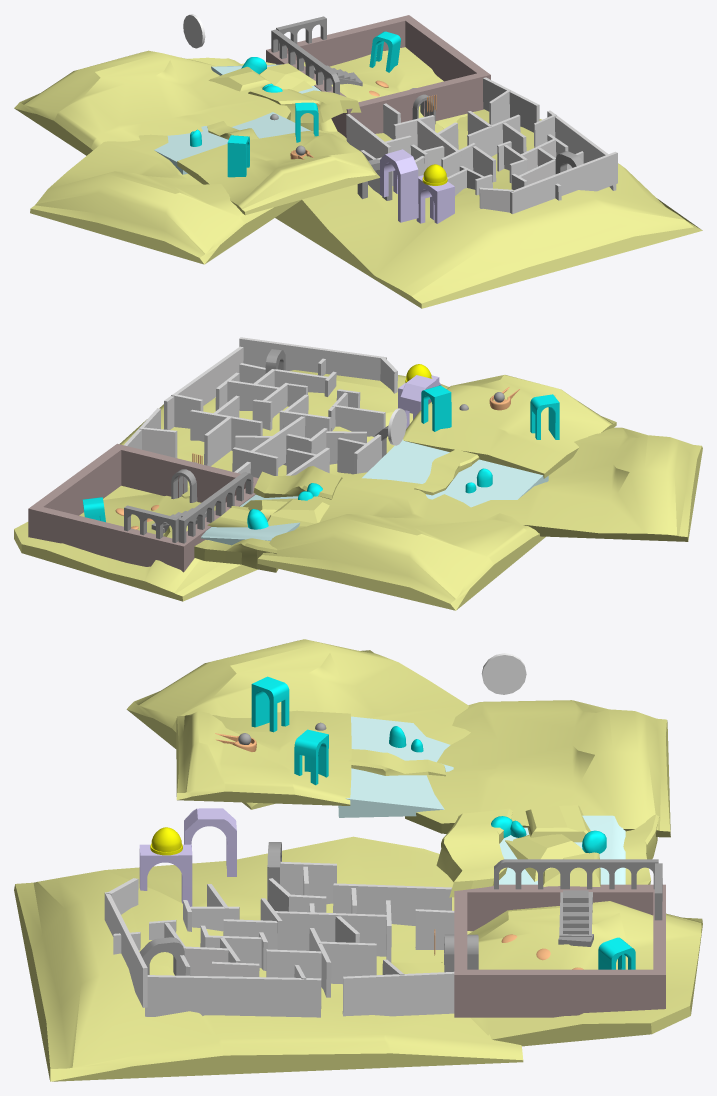
File: LevelLayout1.fbx
3 renders of one model, top to bottom at view 1: azimuth 30°, elevation 25°; view 2: azimuth 150°, elevation 25°; view 3: azimuth 270°, elevation 25°, orthographic. The views are drawn at different scales.
Parts seen in each view (by area): view 1: pCube23, pCube73, pCube20, pCube18, Wall, pCube24, pCube5, Pound1, pasted__polySurface26, pPlane4, pasted__polySurface23, pCube33 (+19 smaller); view 2: pCube20, pCube73, Wall, pCube18, pCube24, Pound1, pCube23, pCube5, pCube28, pPlane4, pPlane5, Pond2 (+30 smaller); view 3: pCube23, pCube20, pCube73, pCube24, Wall, pCube18, pCube28, Pound1, pCube33, pPlane4, pCube34, pCube35 (+28 smaller).
Part boxes in pixels (x1=…): pCube23: x1=275, y1=109, x2=702, y2=308; pCube73: x1=30, y1=134, x2=301, y2=264; pCube20: x1=14, y1=50, x2=290, y2=155; pCube18: x1=177, y1=131, x2=379, y2=215; Wall: x1=266, y1=15, x2=490, y2=137; pCube24: x1=300, y1=47, x2=475, y2=133; pCube5: x1=510, y1=151, x2=617, y2=214; Pound1: x1=154, y1=112, x2=311, y2=174; pasted__polySurface26: x1=380, y1=149, x2=418, y2=222; pPlane4: x1=248, y1=89, x2=361, y2=122; pasted__polySurface23: x1=416, y1=175, x2=454, y2=223; pCube33: x1=483, y1=77, x2=539, y2=132; pCube20: x1=257, y1=472, x2=545, y2=610; pCube73: x1=471, y1=427, x2=702, y2=541; Wall: x1=28, y1=443, x2=258, y2=572; pCube18: x1=403, y1=375, x2=616, y2=478; pCube24: x1=14, y1=493, x2=257, y2=601; Pound1: x1=362, y1=439, x2=548, y2=507; pCube23: x1=103, y1=370, x2=448, y2=499; pCube5: x1=239, y1=337, x2=386, y2=380; pCube28: x1=164, y1=346, x2=243, y2=429; pPlane4: x1=253, y1=466, x2=342, y2=499; pPlane5: x1=194, y1=538, x2=278, y2=572; Pond2: x1=201, y1=494, x2=299, y2=545; pCube23: x1=14, y1=836, x2=523, y2=1081; pCube20: x1=405, y1=700, x2=670, y2=837; pCube73: x1=126, y1=639, x2=470, y2=809; pCube24: x1=468, y1=901, x2=702, y2=1046; Wall: x1=454, y1=884, x2=665, y2=1017; pCube18: x1=176, y1=710, x2=351, y2=805; pCube28: x1=145, y1=975, x2=321, y2=1017; Pound1: x1=338, y1=716, x2=453, y2=817; pCube33: x1=342, y1=972, x2=454, y2=1016; pPlane4: x1=436, y1=808, x2=512, y2=897; pCube34: x1=333, y1=883, x2=451, y2=925; pCube35: x1=275, y1=911, x2=386, y2=956.
Bounding box in the file's own units: 1549 × 466 × 1299.
